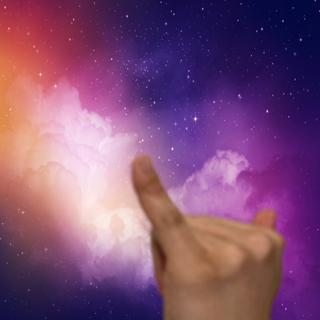HAVE: (112, 148, 320, 320)
